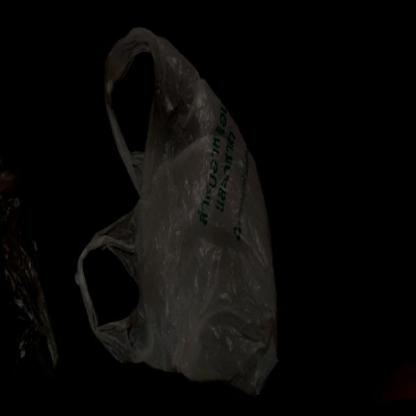Plastic Bag: (70, 26, 290, 398)
